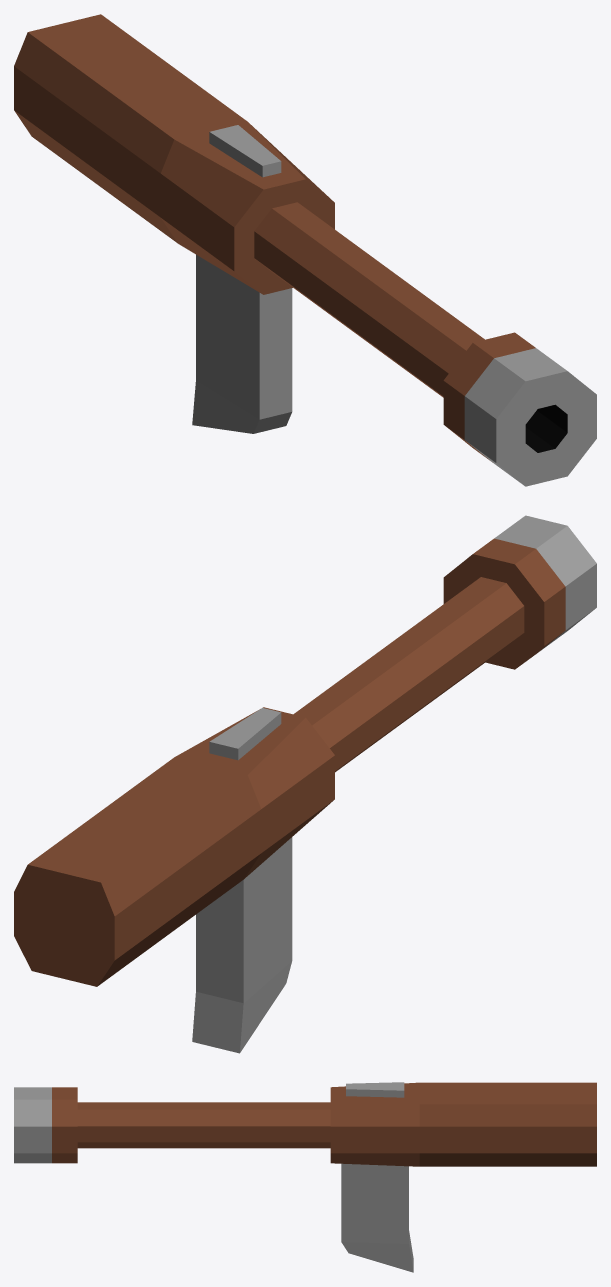
File: testgun.glb
3 views of the same model, one above another, from view 1: azimuth 30°, elevation 25°; view 2: azimuth 150°, elevation 25°; view 3: azimuth 270°, elevation 25° (orthographic). The views are drawn at different scales.
Visible parts, largest first — view 1: testgun; view 2: testgun; view 3: testgun.
Boxes of the visible parts, x1,y1,x2,y2 form: testgun: [14, 14, 596, 486]; testgun: [14, 515, 596, 1053]; testgun: [14, 1082, 596, 1272].
Bounding box in the file's own units: 0.2079 × 0.5853 × 1.72.
